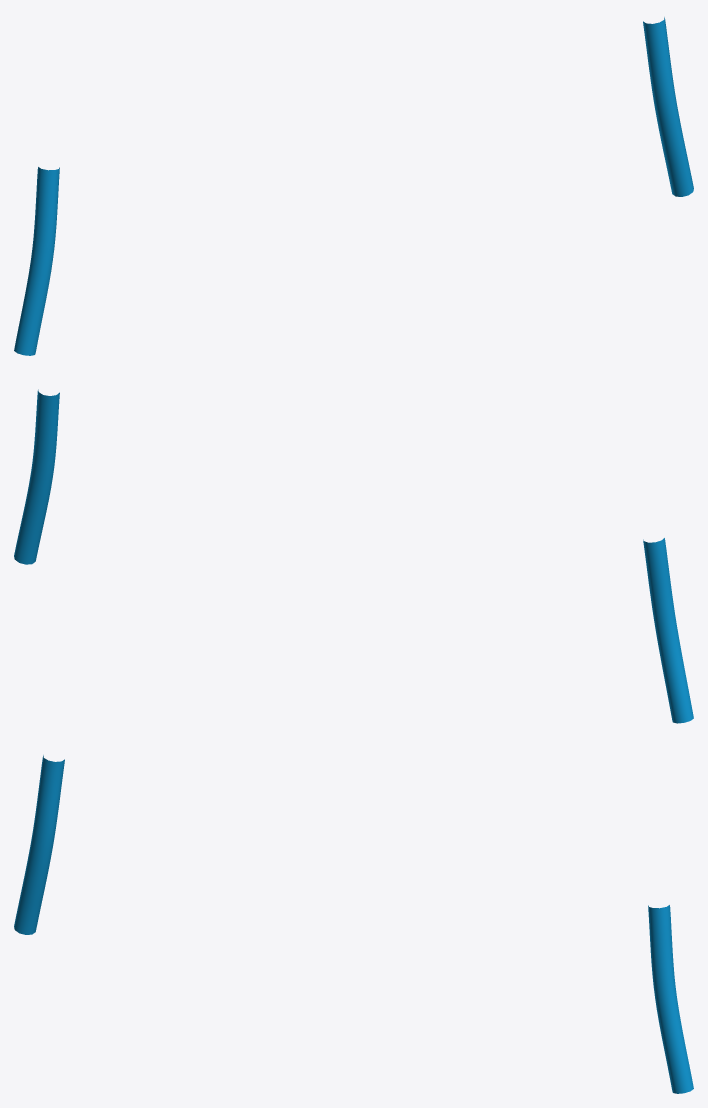
File: b_pillar.glb
3 views of the same model, one above another, from view 1: azimuth 30°, elevation 25°; view 2: azimuth 150°, elevation 25°; view 3: azimuth 330°, elevation 25° (orthographic).
Visible parts, largest first — view 1: B_Pillar_Upright_LH, B_Pillar_Upright_RH; view 2: B_Pillar_Upright_LH, B_Pillar_Upright_RH; view 3: B_Pillar_Upright_RH, B_Pillar_Upright_LH.
Part boxes in pixels (left/top/right/bottom): B_Pillar_Upright_LH: left=14, top=167, right=59, bottom=355; B_Pillar_Upright_RH: left=643, top=17, right=693, bottom=196; B_Pillar_Upright_LH: left=643, top=538, right=693, bottom=723; B_Pillar_Upright_RH: left=14, top=389, right=59, bottom=564; B_Pillar_Upright_RH: left=648, top=905, right=693, bottom=1093; B_Pillar_Upright_LH: left=14, top=755, right=64, bottom=934.
Size of the model in its own units: 1.52 by 0.3868 by 0.0548.
